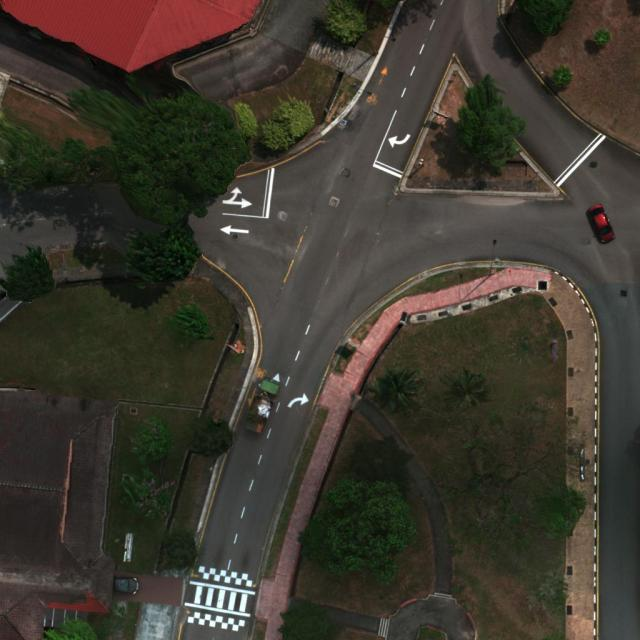Tree: (64, 87, 254, 229), (438, 411, 588, 554), (314, 471, 418, 585), (0, 109, 95, 195), (456, 74, 528, 168), (123, 224, 203, 283), (0, 244, 58, 304), (351, 433, 417, 483), (120, 466, 177, 522), (368, 362, 425, 414), (297, 509, 342, 570), (438, 365, 494, 413), (180, 415, 235, 461), (128, 416, 176, 465), (277, 597, 330, 640), (516, 0, 576, 37), (324, 0, 369, 44), (271, 93, 314, 139), (166, 300, 213, 342), (160, 526, 198, 572), (528, 569, 564, 612), (44, 615, 100, 640), (261, 120, 292, 152), (234, 101, 258, 141), (551, 62, 575, 87), (594, 24, 612, 47)
